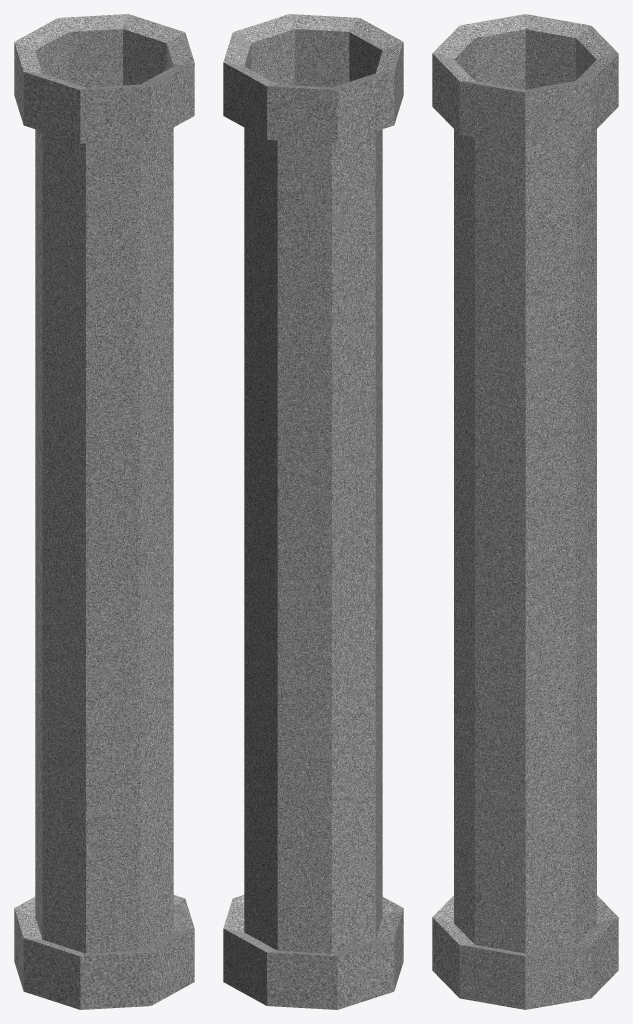
The model's file is pipe.obj.
The picture shows the model from 3 angles, left to right: view 1: azimuth 30°, elevation 25°; view 2: azimuth 150°, elevation 25°; view 3: azimuth 270°, elevation 25°; orthographic projection.
Visible parts, largest first — view 1: straight_pipe.018_Cylinder.027; view 2: straight_pipe.018_Cylinder.027; view 3: straight_pipe.018_Cylinder.027.
Part boxes in pixels (bbox=[...]): straight_pipe.018_Cylinder.027: bbox=[14, 14, 194, 1009]; straight_pipe.018_Cylinder.027: bbox=[223, 14, 403, 1009]; straight_pipe.018_Cylinder.027: bbox=[432, 14, 618, 1009].
Size of the model in its own units: 0.2603 by 1.42 by 0.2603.
